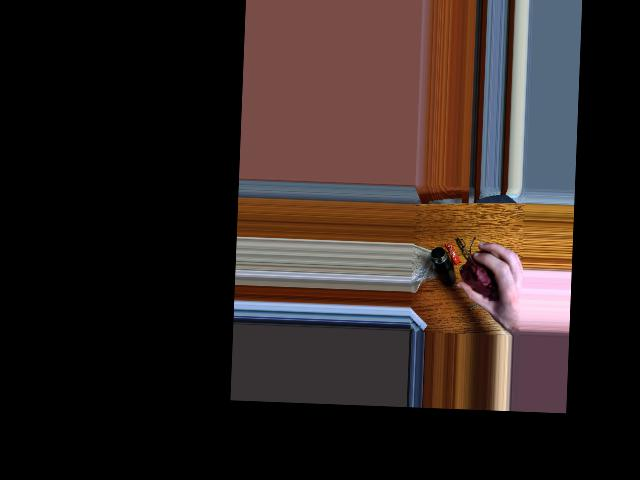onion: (463, 253, 502, 301)
